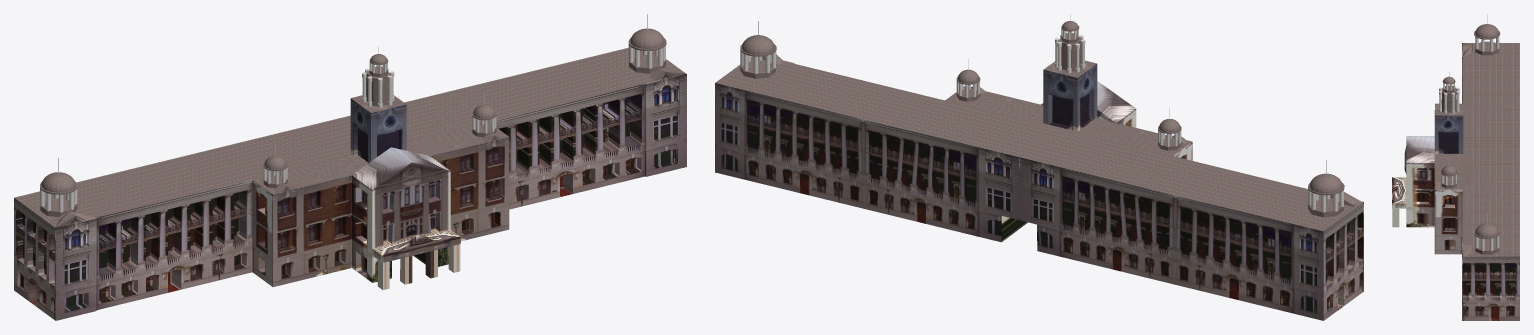
3 views of the same model, side by side, from view 1: azimuth 30°, elevation 25°; view 2: azimuth 150°, elevation 25°; view 3: azimuth 270°, elevation 25° (orthographic). The views are drawn at different scales.
Parts seen in each view (by area): view 1: MB2; view 2: MB2; view 3: MB2.
Boxes of the visible parts, x1,y1,x2,y2 form: MB2: (14, 14, 686, 320); MB2: (715, 14, 1363, 320); MB2: (1392, 14, 1519, 320).
Bounding box in the file's own units: 35.58 × 11.01 × 9.
Materials: 5 (2 with a texture image).
